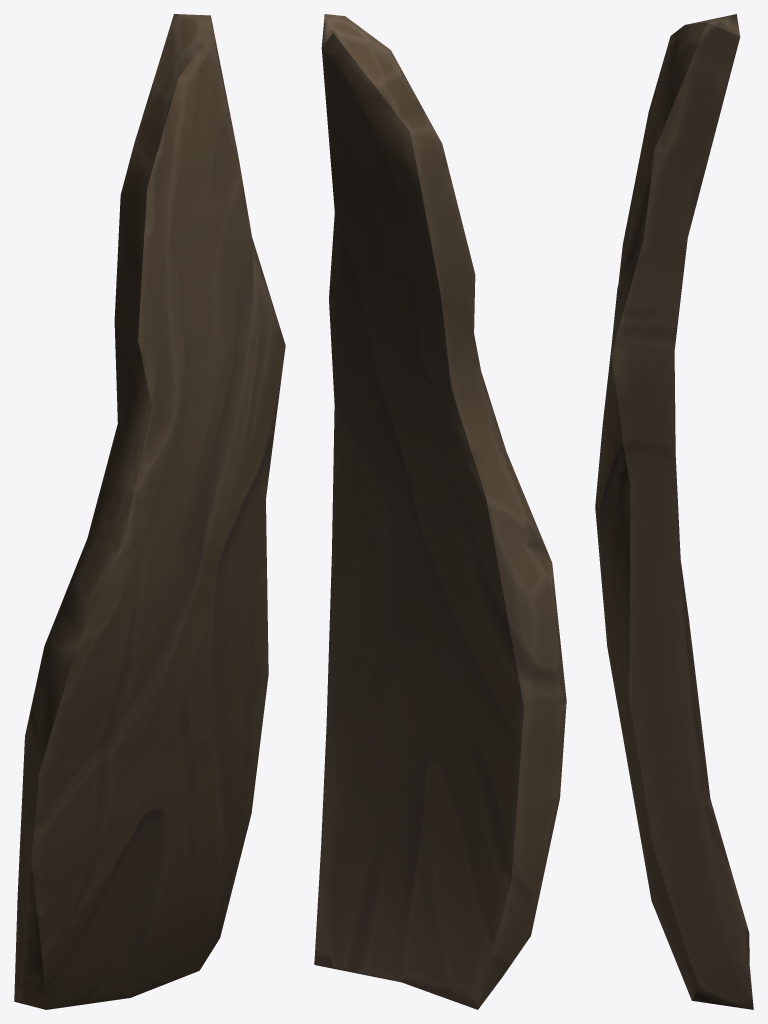
File: SM_FW01_BarrelDebris_05.fbx
The picture shows the model from 3 angles, left to right: view 1: azimuth 30°, elevation 25°; view 2: azimuth 150°, elevation 25°; view 3: azimuth 270°, elevation 25°; orthographic projection. The views are drawn at different scales.
Parts seen in each view (by area): view 1: SM_FW01_BarrelDebris_05_LOD0; view 2: SM_FW01_BarrelDebris_05_LOD0; view 3: SM_FW01_BarrelDebris_05_LOD0.
Boxes of the visible parts, box(x1,y1,x2,y2) form: SM_FW01_BarrelDebris_05_LOD0: box(14, 14, 285, 1009); SM_FW01_BarrelDebris_05_LOD0: box(314, 14, 566, 1009); SM_FW01_BarrelDebris_05_LOD0: box(595, 14, 753, 1009).
Size of what is drawn, in the model's own units: 0.2831 by 1.09 by 0.1558.
